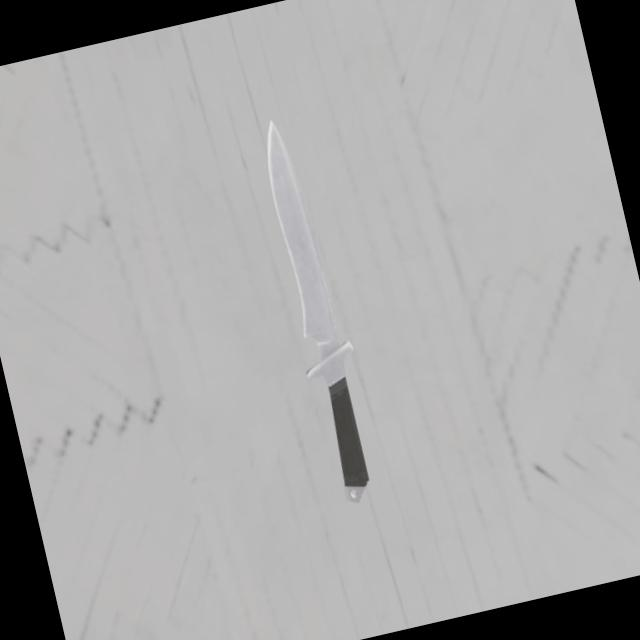knife: (318, 376, 376, 514)
